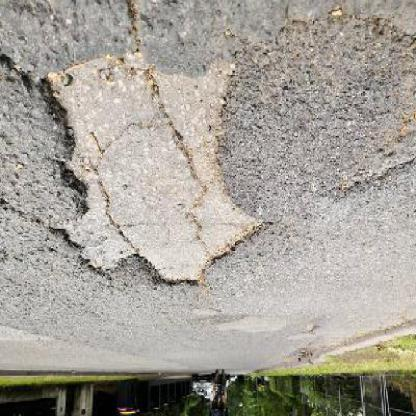pothole: (34, 55, 270, 294)
